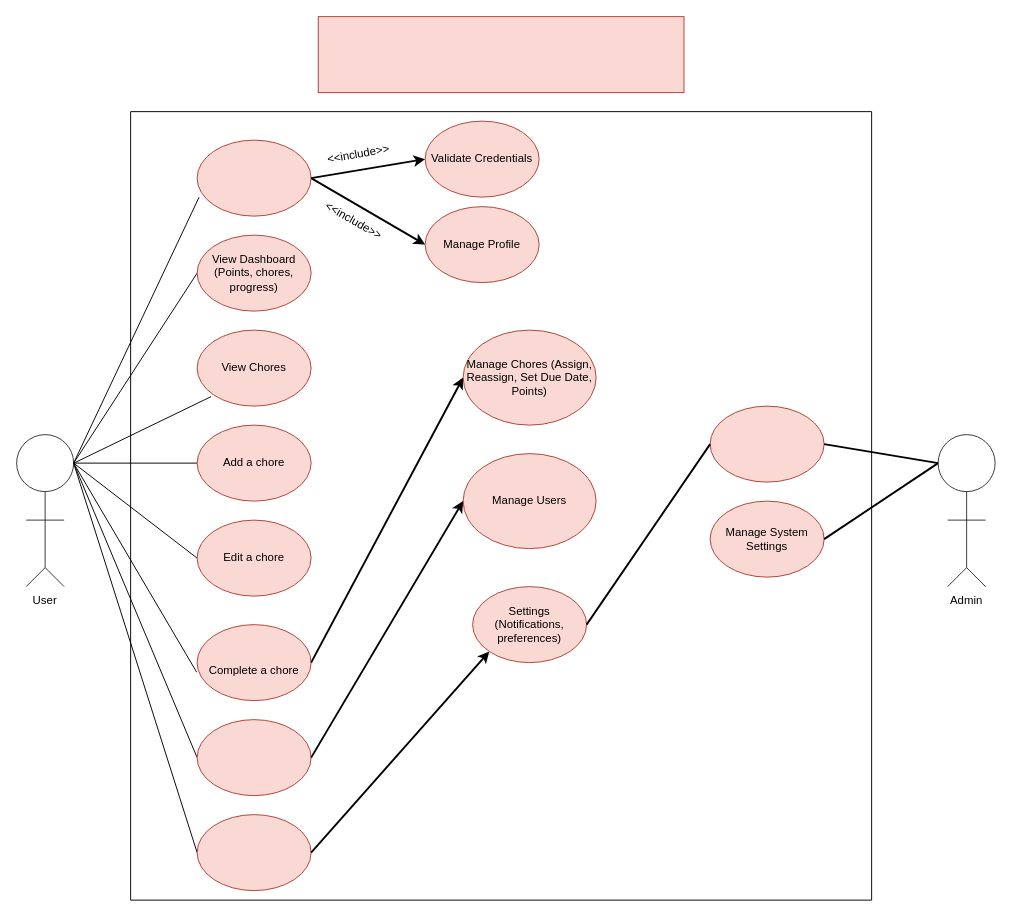
Image size: 1012x917. Some labels were removed from this diagram. Here are the shapes that lost their labels. From the top down, the box of each, then its label:
(317, 16, 684, 93): Chorify Use Case Diagram
(196, 139, 311, 216): Register/Log In
(709, 405, 824, 482): View System Reports
(196, 719, 311, 796): Earn Points
(196, 814, 311, 891): View Progress and Chore History
